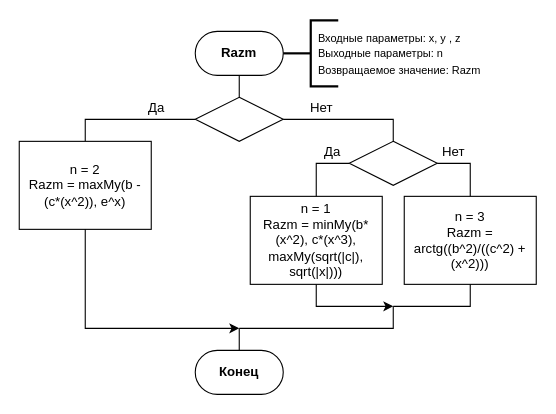
Some shapes in this 556 by 414 pixel diagram are drawn without their labels. The box of each missing label's shape, as (x1, y1, x2, y2) in pixels:
x < -3: (348, 140, 437, 185)
x > 3: (194, 96, 283, 141)
